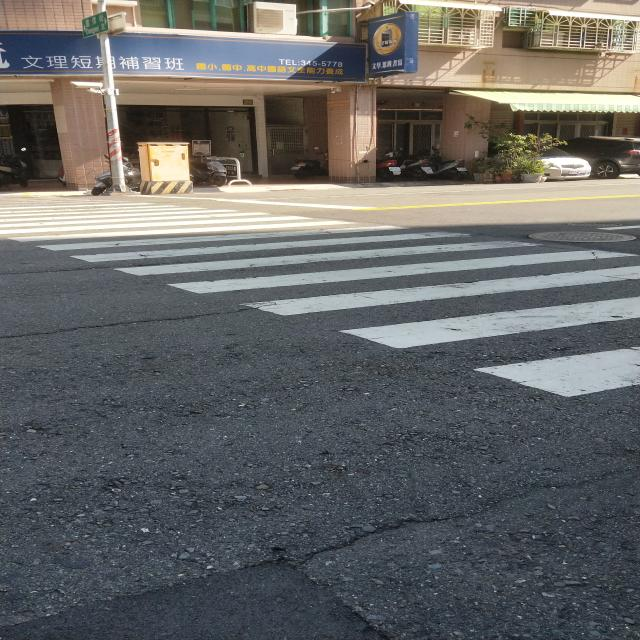zebra crossing: (0, 194, 640, 401)
